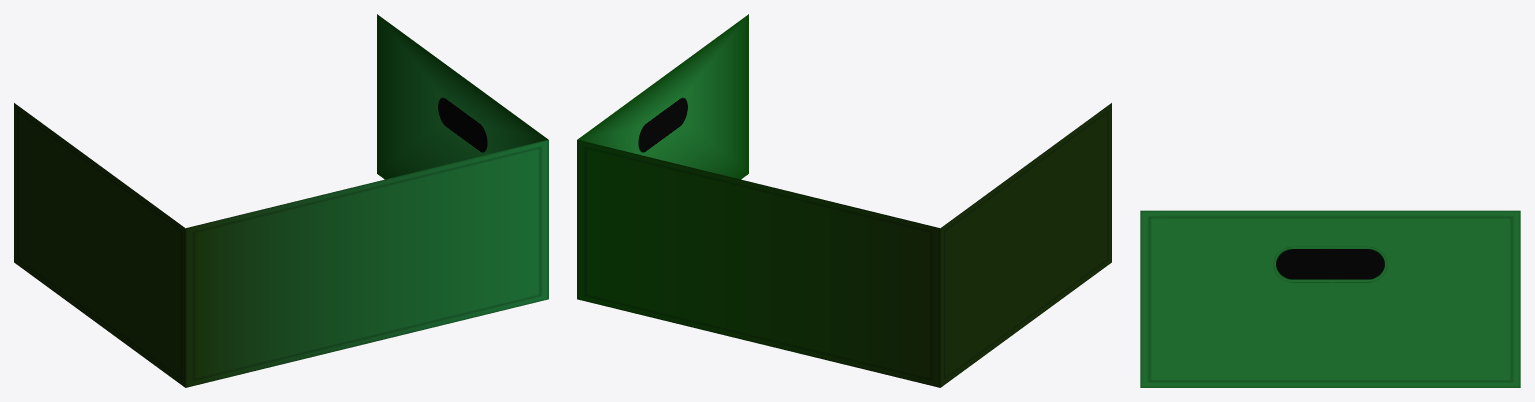
The picture shows the model from 3 angles, left to right: view 1: azimuth 30°, elevation 25°; view 2: azimuth 150°, elevation 25°; view 3: azimuth 270°, elevation 25°; orthographic projection. The views are drawn at different scales.
Parts seen in each view (by area): view 1: Joint_0_Object_0, Joint_0_Object_1; view 2: Joint_0_Object_0, Joint_0_Object_1; view 3: Joint_0_Object_0.
Boxes of the visible parts, x1,y1,x2,y2 form: Joint_0_Object_0: [14, 103, 548, 387]; Joint_0_Object_1: [377, 14, 547, 179]; Joint_0_Object_0: [577, 103, 1111, 387]; Joint_0_Object_1: [578, 14, 748, 179]; Joint_0_Object_0: [1140, 210, 1520, 387].
Bounding box in the file's own units: 1114 × 468 × 911.
2 materials, 2 textured.
